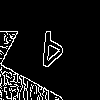A: (25, 25, 76, 82)
